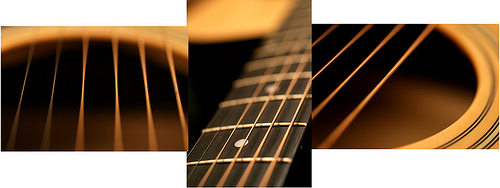guitar: (316, 22, 500, 152), (4, 26, 186, 151), (192, 1, 313, 188)
